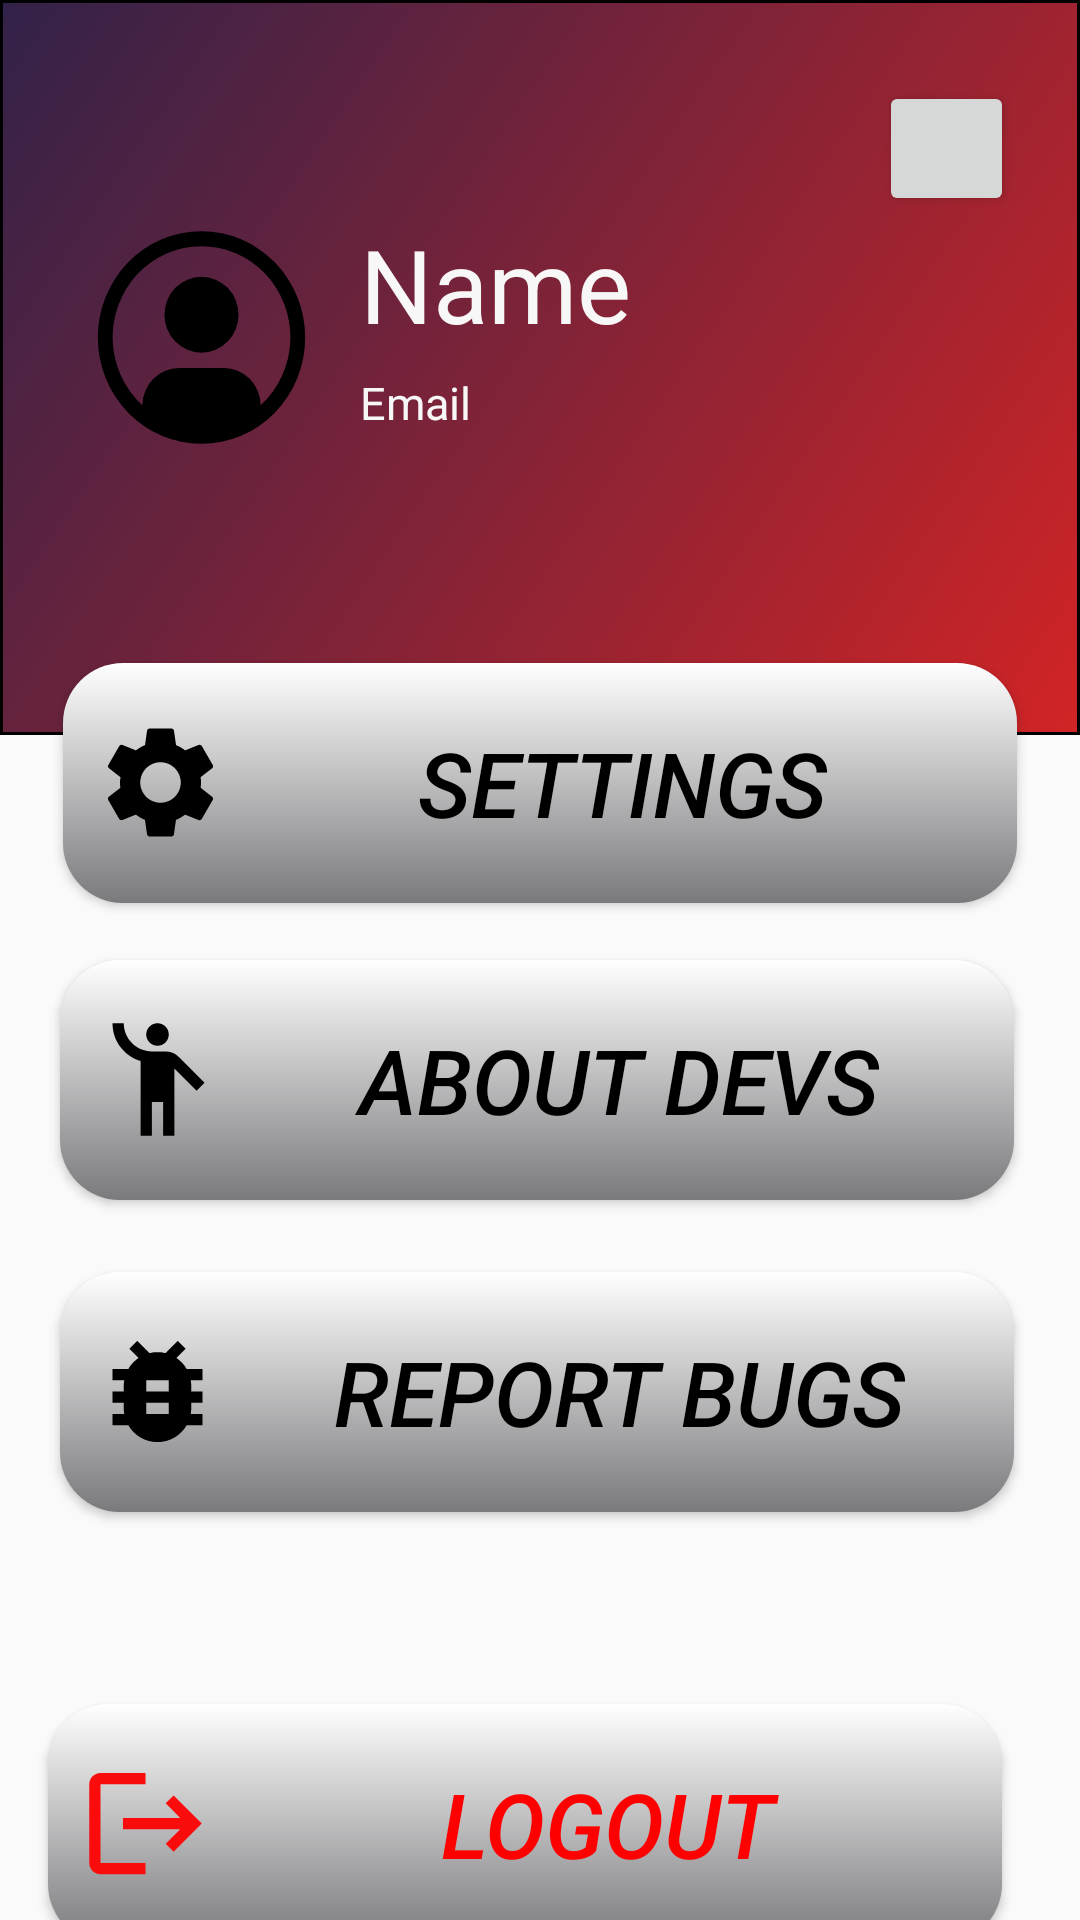

Icon click points for this 1080px×1920px phone screenshot, format [x,y]:
profile: [194,330]
